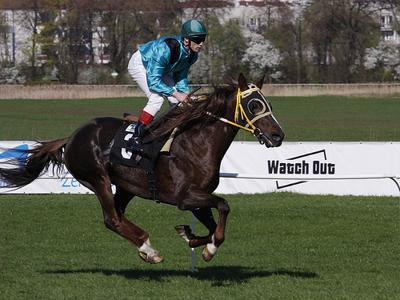person: (124, 18, 209, 158)
